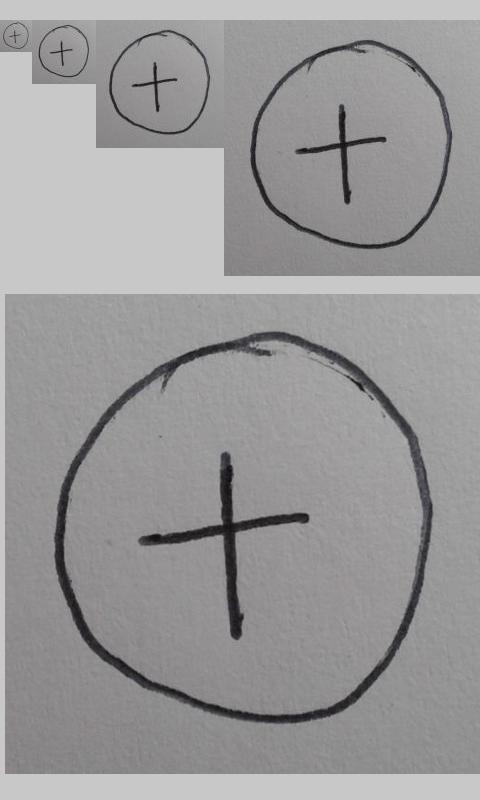button: (50, 329, 432, 725), (249, 40, 454, 251), (109, 29, 211, 135), (38, 24, 89, 78), (2, 22, 30, 50)
